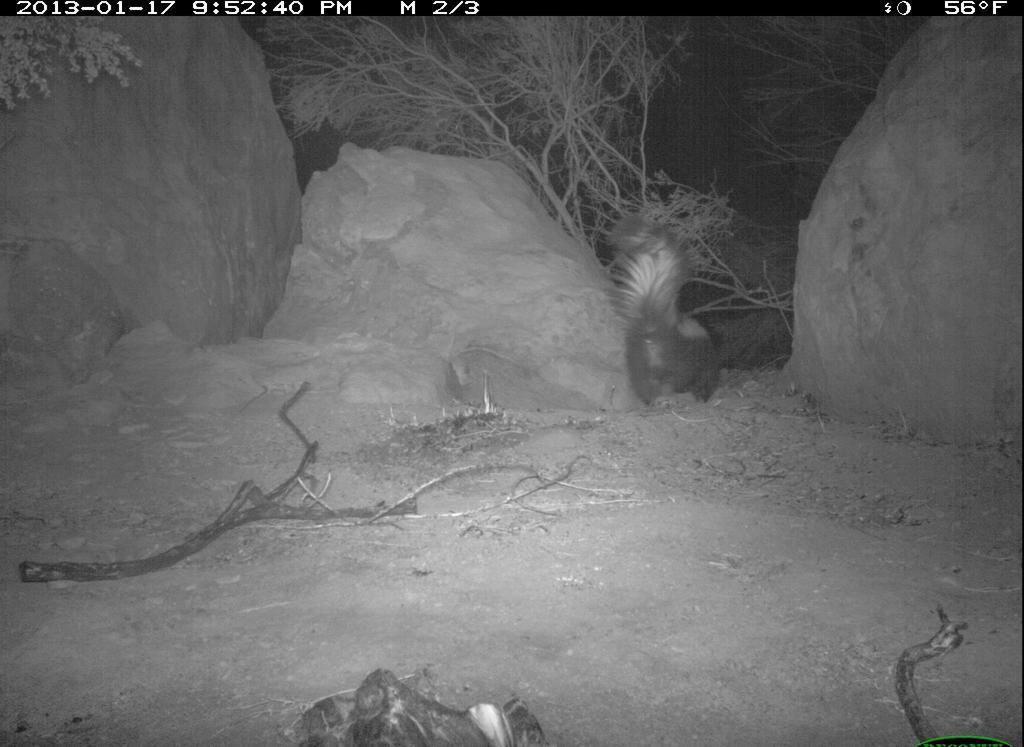skunk: (597, 209, 735, 413)
